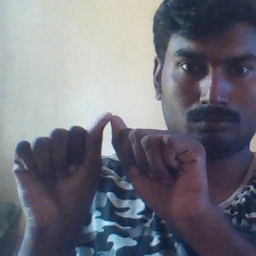A: (33, 110, 186, 214)
